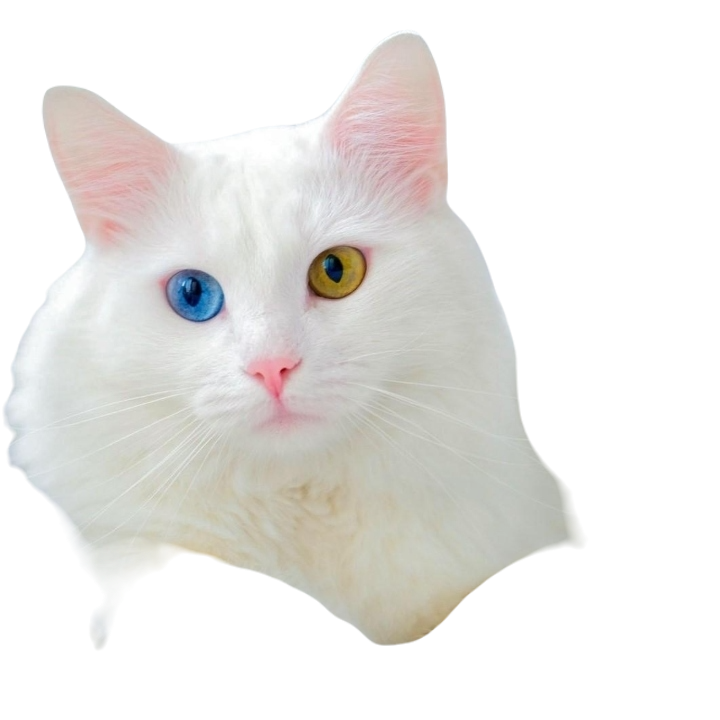Cat: (5, 20, 586, 648)
